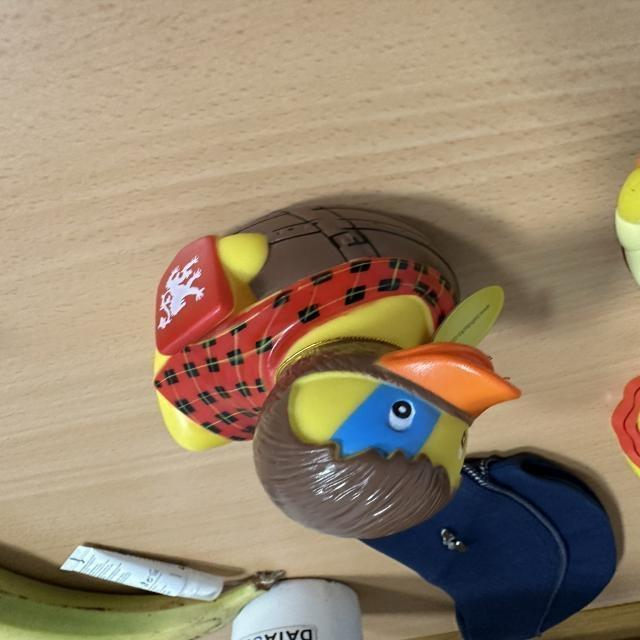rubber-duck: (153, 206, 517, 536)
